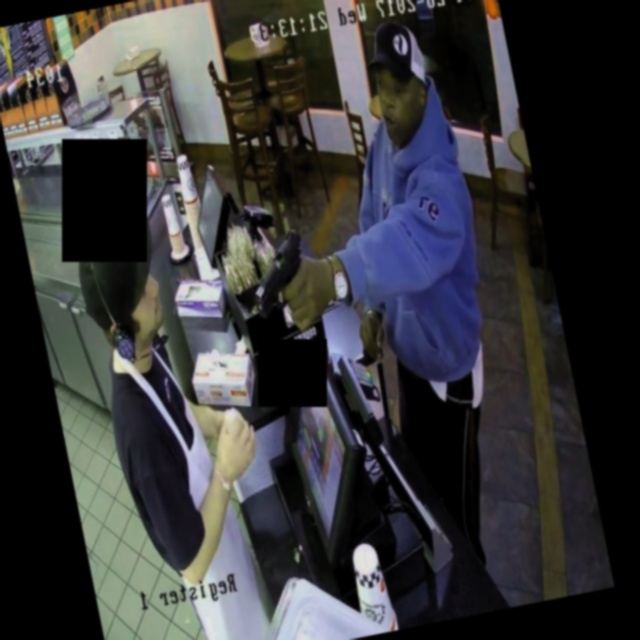gun: (230, 212, 337, 333)
